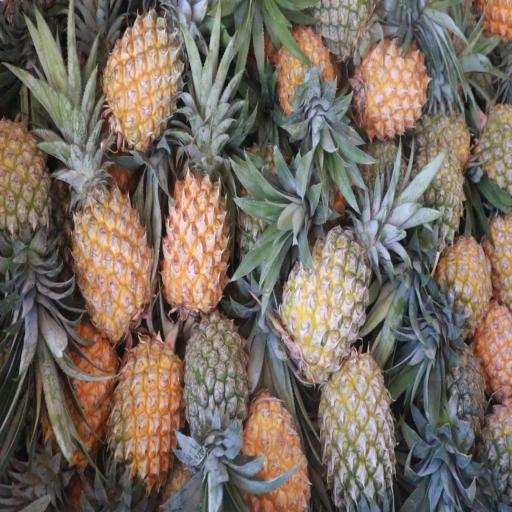------------------------------: (282, 233, 365, 377), (323, 359, 397, 512)
Pineapple - v8 v1: (75, 167, 150, 335), (120, 342, 188, 484), (162, 174, 227, 322), (104, 18, 178, 147), (52, 327, 118, 453), (0, 117, 53, 264), (239, 397, 305, 510), (358, 45, 426, 138), (272, 28, 333, 124), (440, 240, 492, 336)
